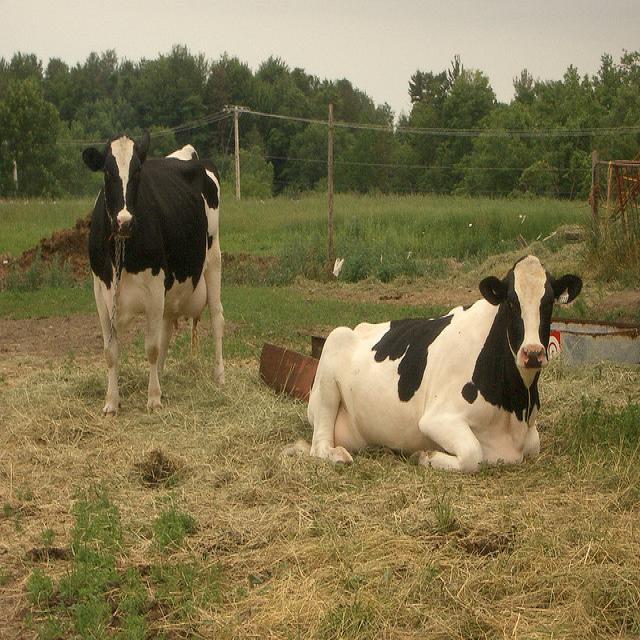cow: (305, 255, 579, 471), (79, 129, 226, 416)
